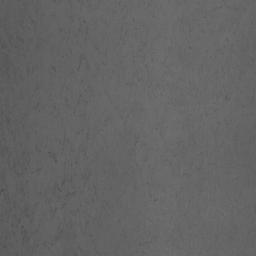Silk spot: (0, 104, 110, 253), (0, 0, 45, 80), (164, 109, 217, 165), (120, 42, 163, 96), (51, 80, 93, 118), (59, 0, 91, 40), (207, 23, 238, 58), (119, 2, 144, 44), (71, 55, 106, 77)
